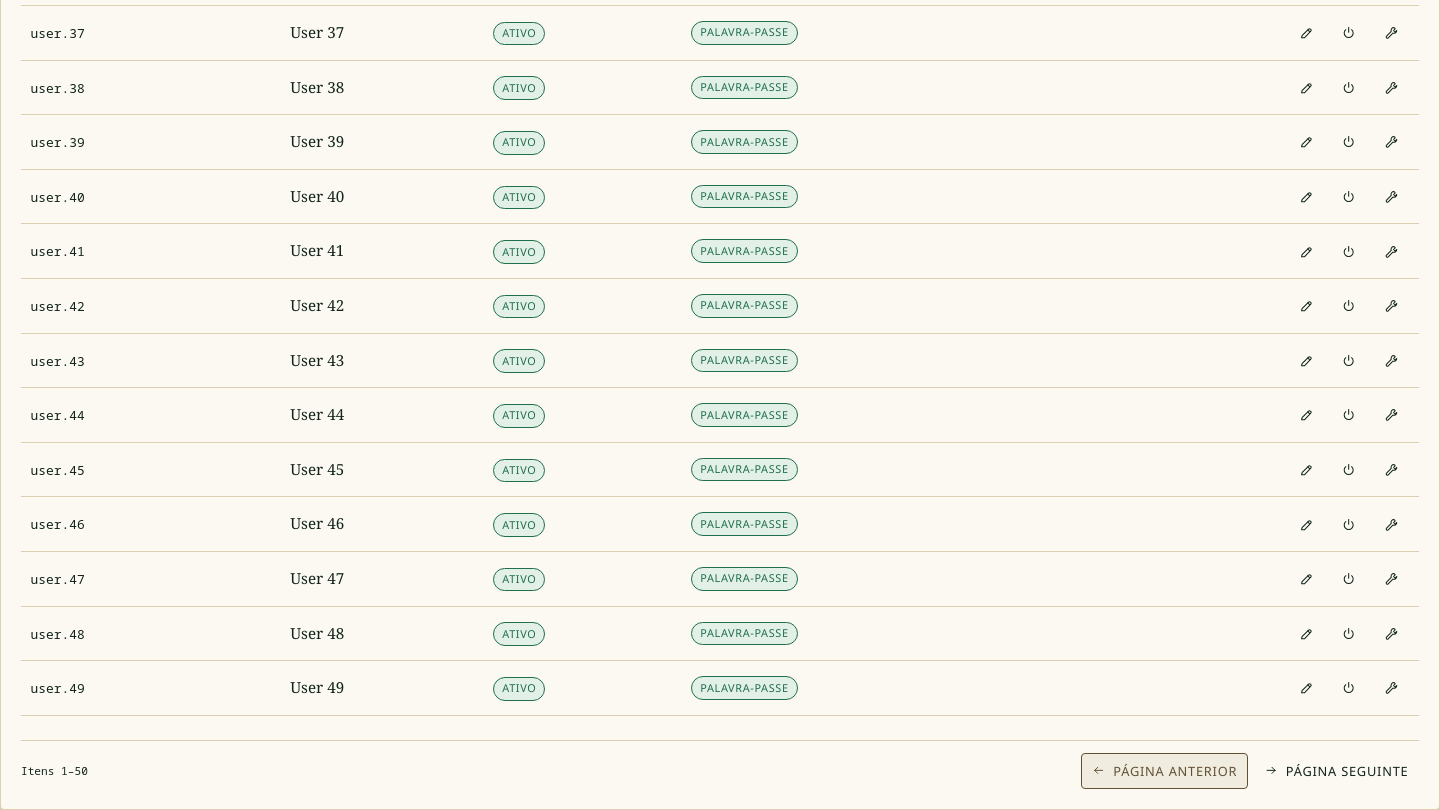
Test case: bounded registry pages › wires an opaque cursor without a conflicting offset and announces page context
Click the button "Página seguinte" at (1336, 771), box x1=1253 y1=753 x2=1419 y2=789
(page scrolled)
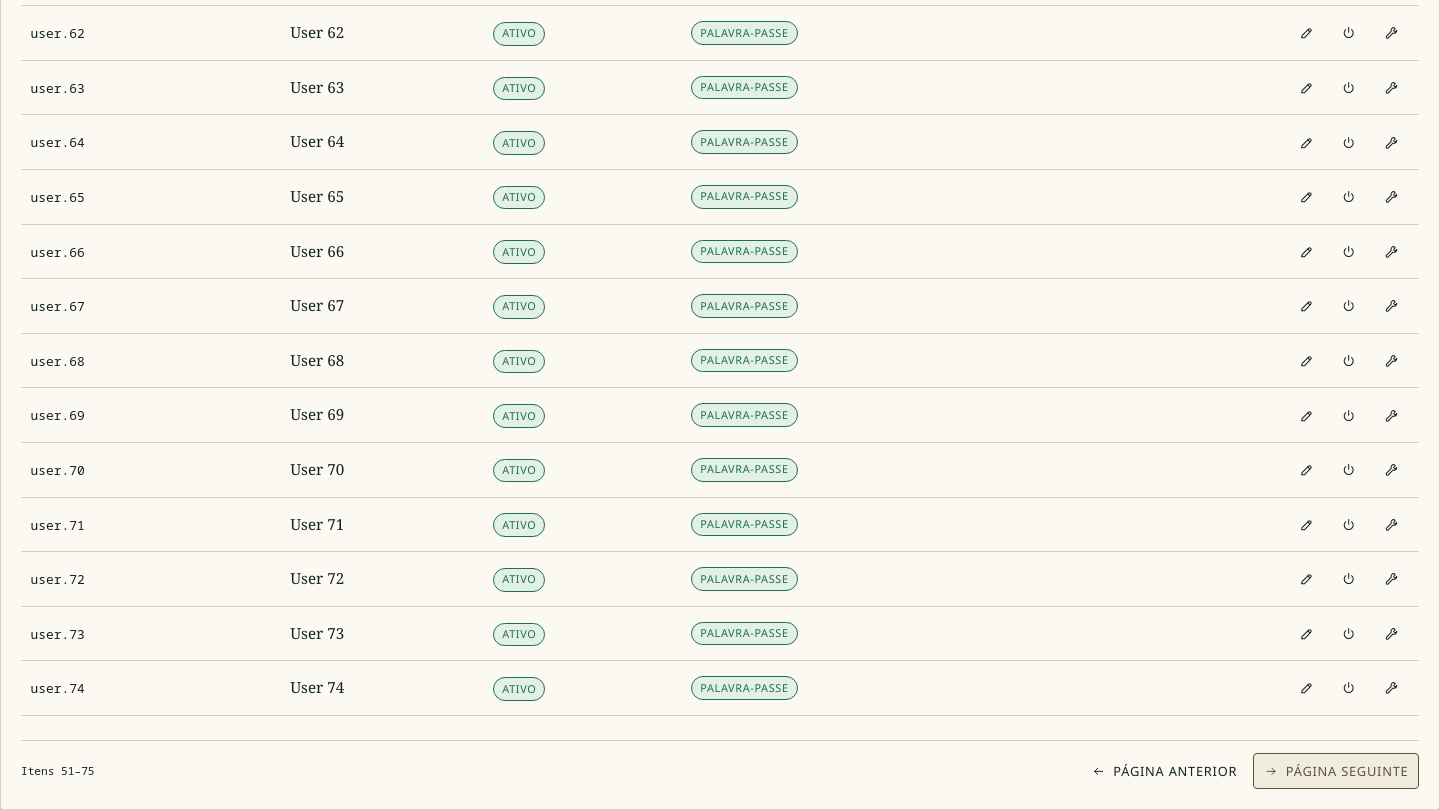
Result: the text "Itens 51–75" is shown at x1=21 y1=762 x2=94 y2=780
Click the button "Página anterior" at (1164, 771), box x1=1081 y1=753 x2=1248 y2=789
(page scrolled)
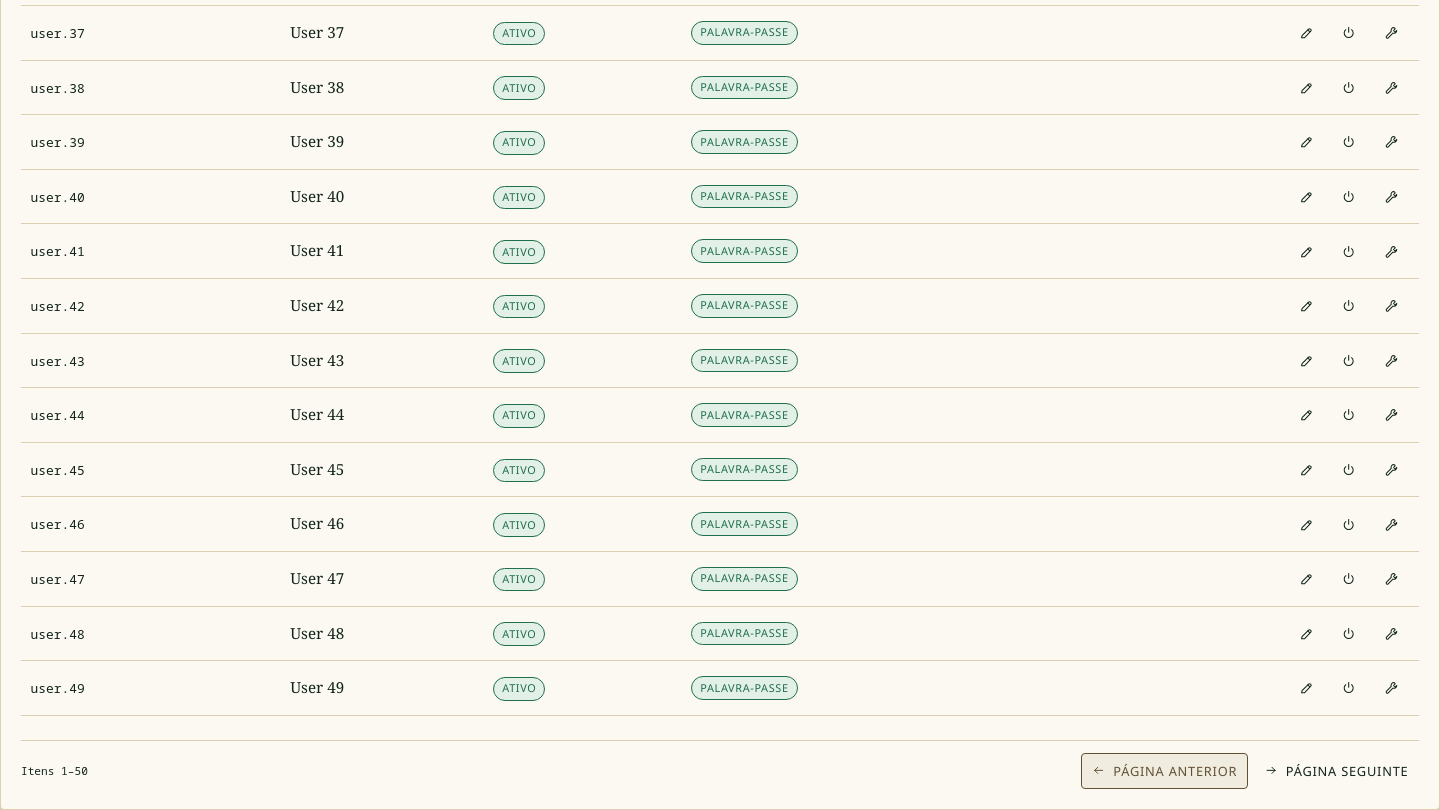
Result: the text "Itens 1–50" is shown at x1=21 y1=762 x2=88 y2=780
